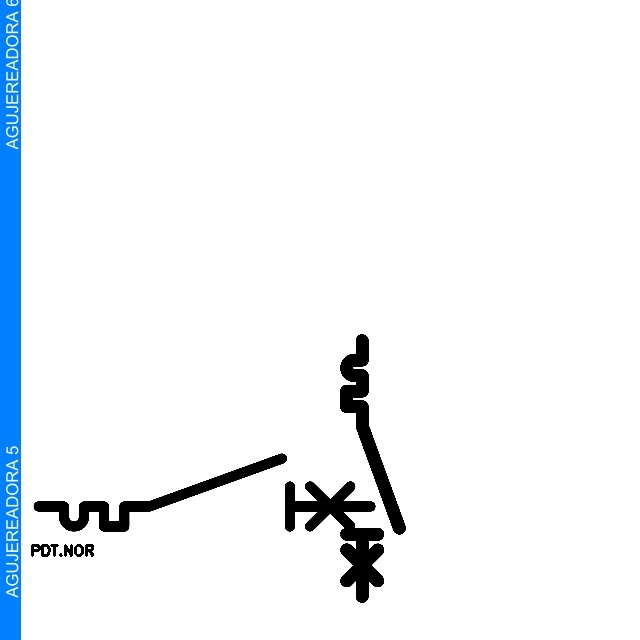interruptor_termomagnetico: (30, 450, 379, 535), (340, 334, 405, 603)
